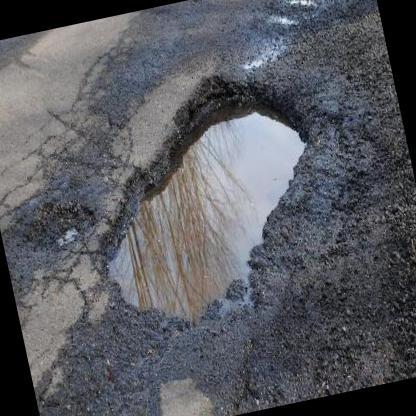pothole: (63, 53, 344, 344), (9, 186, 100, 258)
